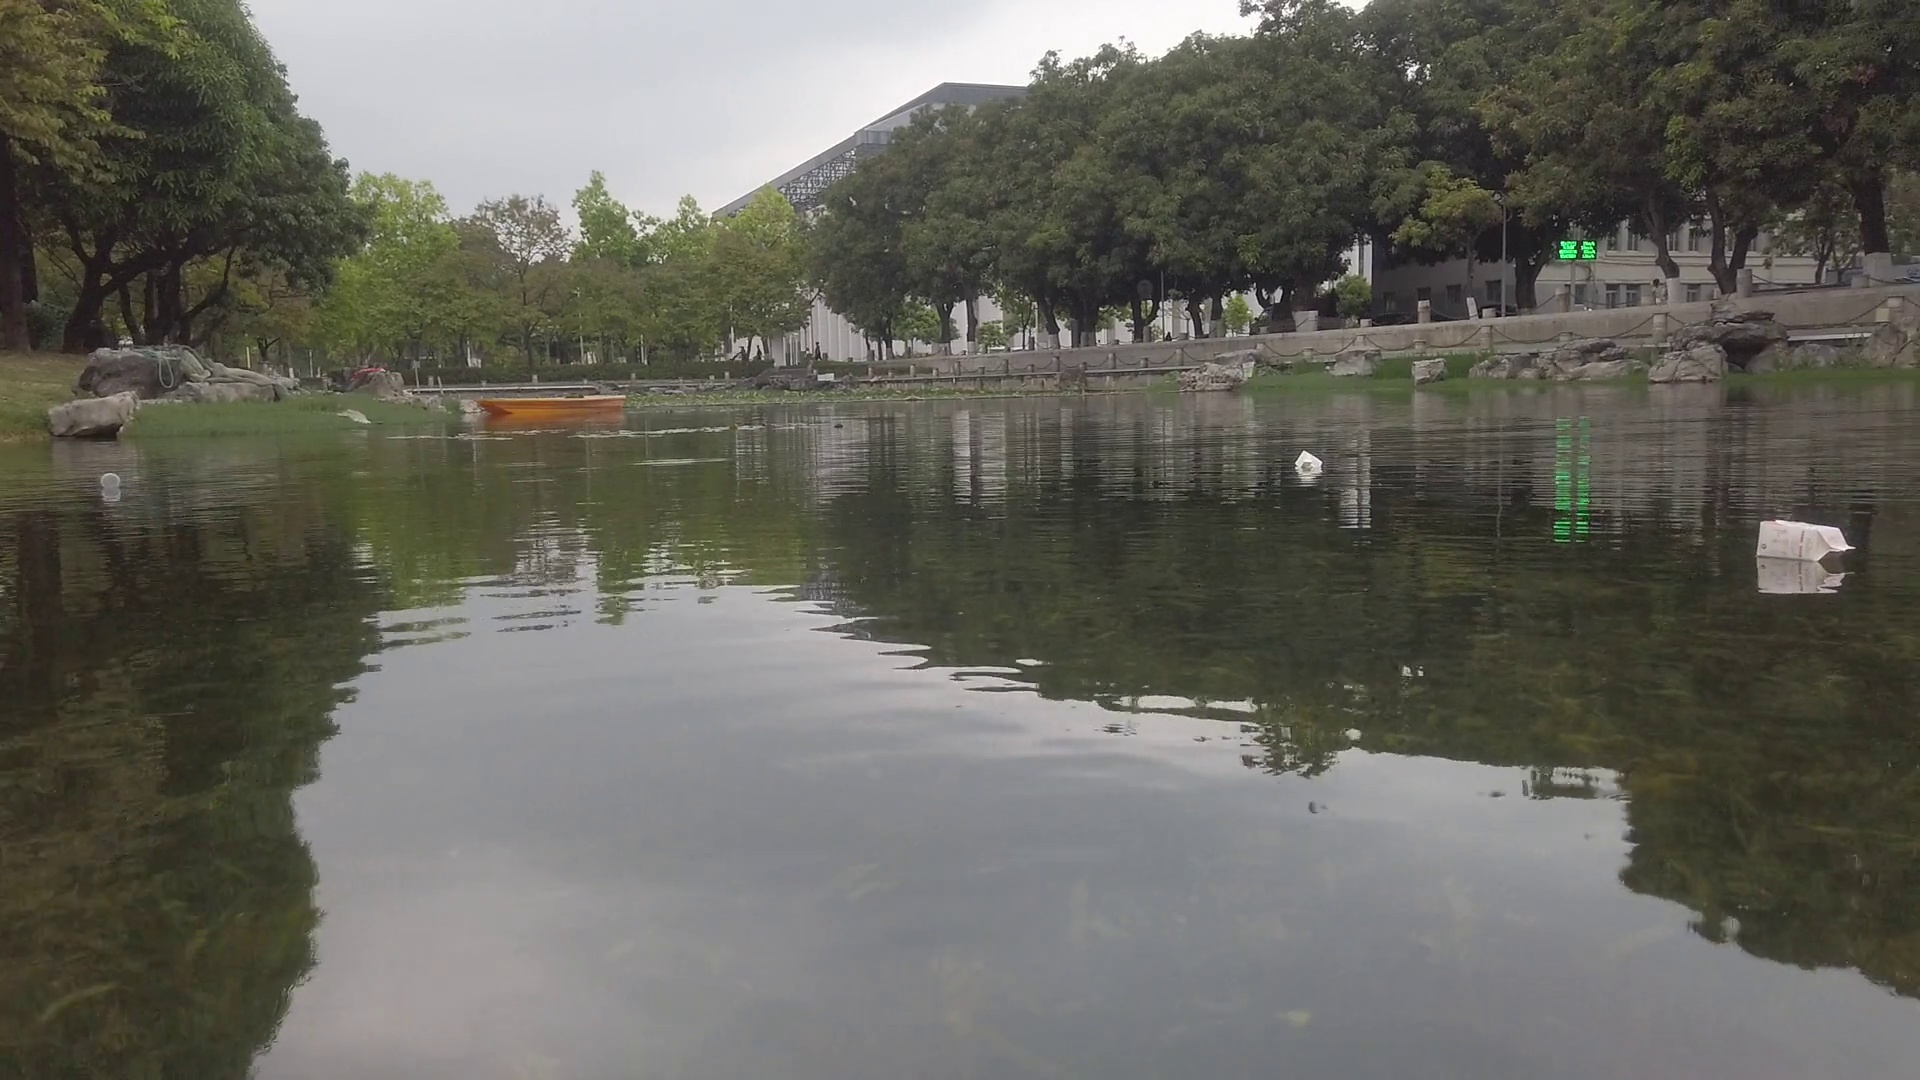bottle: (99, 473, 124, 491)
carton: (1753, 516, 1851, 568), (1294, 451, 1325, 481)
